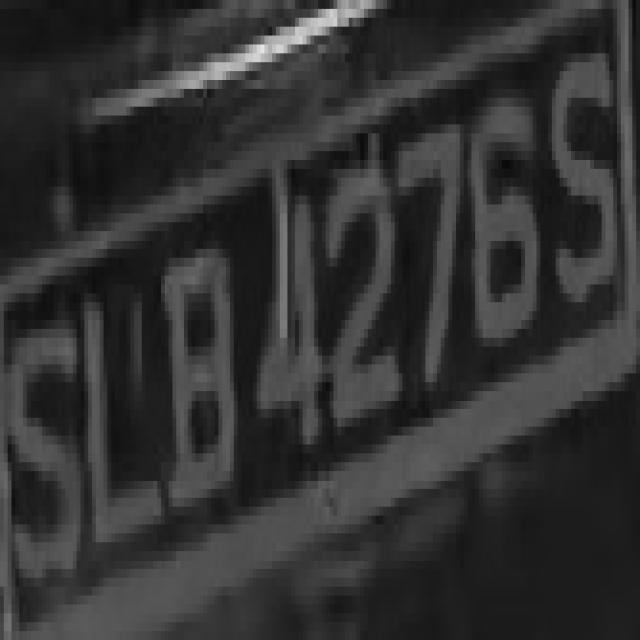2: (318, 142, 406, 462)
4: (245, 142, 326, 462)
6: (448, 54, 552, 382)
7: (383, 71, 475, 453)
B: (165, 213, 241, 542)
L: (77, 266, 157, 586)
S: (0, 266, 88, 604), (544, 18, 625, 329)
